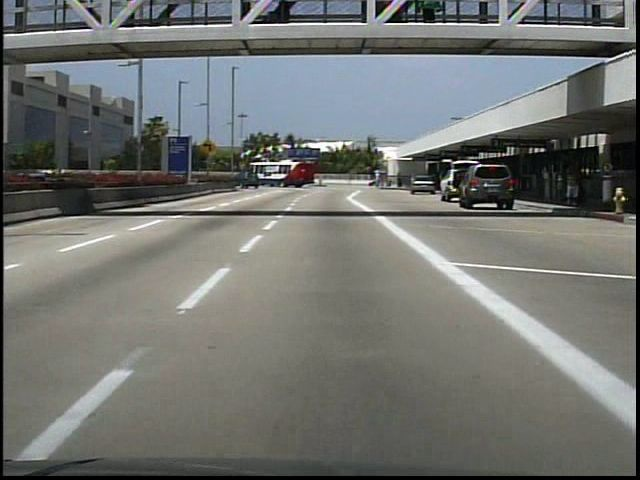person: (559, 162, 583, 210)
